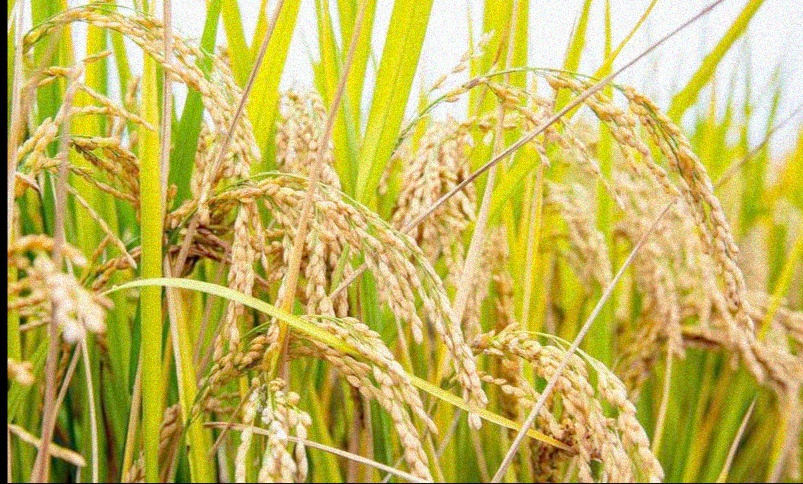rice: (483, 59, 768, 336), (153, 164, 431, 328), (195, 310, 434, 480), (24, 6, 269, 165), (441, 326, 662, 483)
